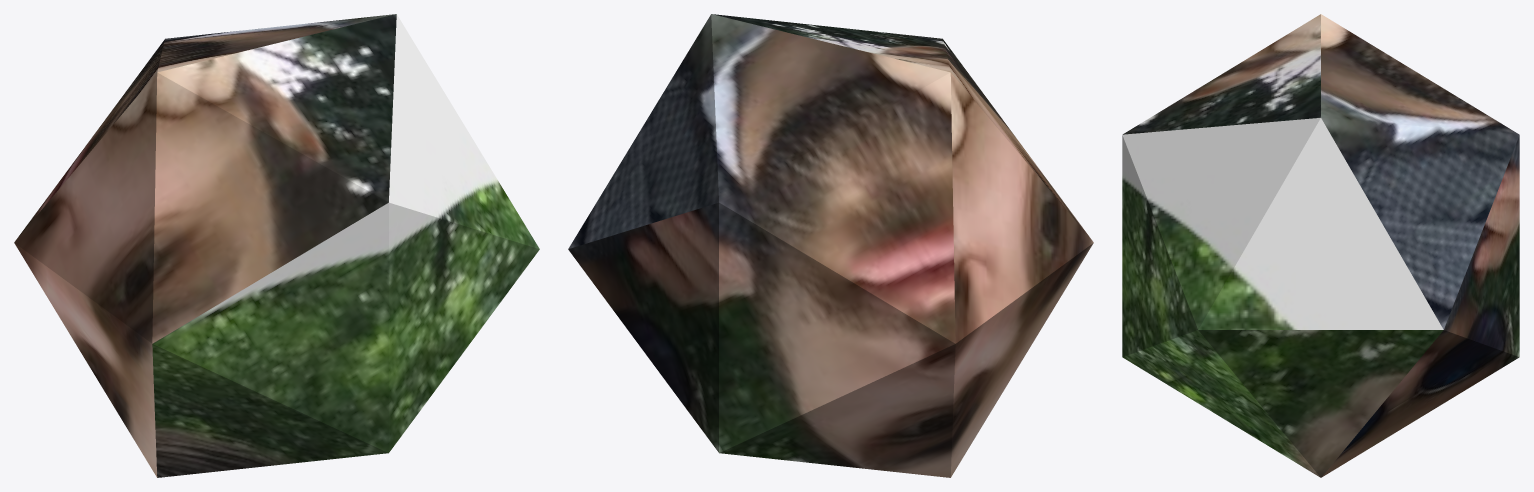
Rendered from aleks.gltf.
The picture shows the model from 3 angles, left to right: view 1: azimuth 30°, elevation 25°; view 2: azimuth 150°, elevation 25°; view 3: azimuth 270°, elevation 25°; orthographic projection. The views are drawn at different scales.
Visible parts, largest first — view 1: Platonic; view 2: Platonic; view 3: Platonic.
Boxes of the visible parts, x1,y1,x2,y2 form: Platonic: [14, 14, 539, 477]; Platonic: [568, 14, 1093, 477]; Platonic: [1122, 14, 1519, 477].
Bounding box in the file's own units: 8.51 × 8.51 × 8.51.
2 materials, 2 textured.
